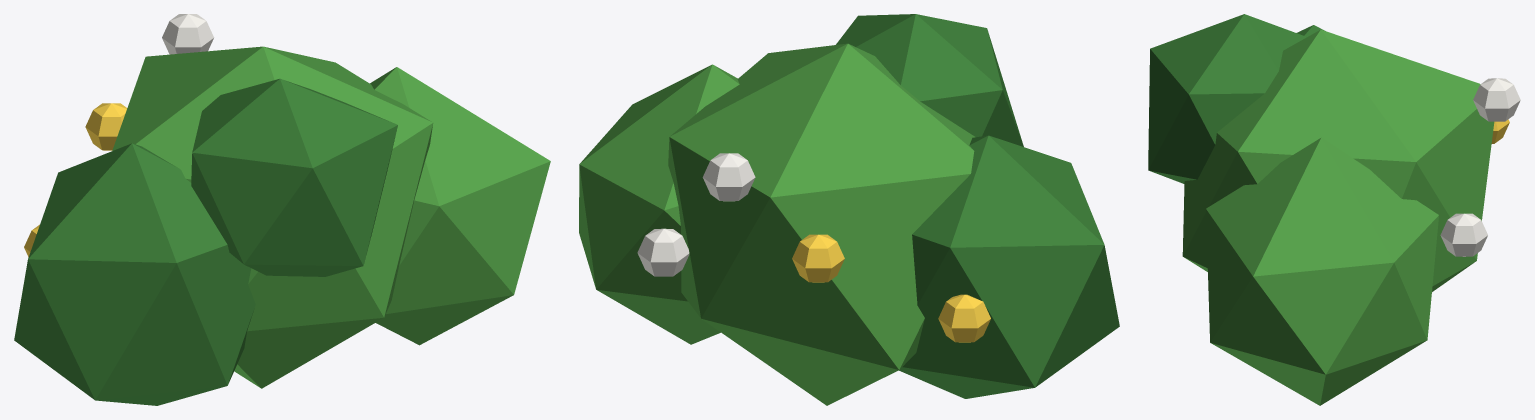
The model's file is Bush.fbx.
3 renders of one model, left to right at view 1: azimuth 30°, elevation 25°; view 2: azimuth 150°, elevation 25°; view 3: azimuth 270°, elevation 25°, orthographic. The views are drawn at different scales.
Visible parts, largest first — view 1: Bush; view 2: Bush; view 3: Bush.
Boxes of the visible parts, <box> form: Bush: <box>14,14,550,405</box>; Bush: <box>579,14,1119,405</box>; Bush: <box>1148,14,1520,405</box>.
Size of the model in its own units: 138 by 92.81 by 96.07.
